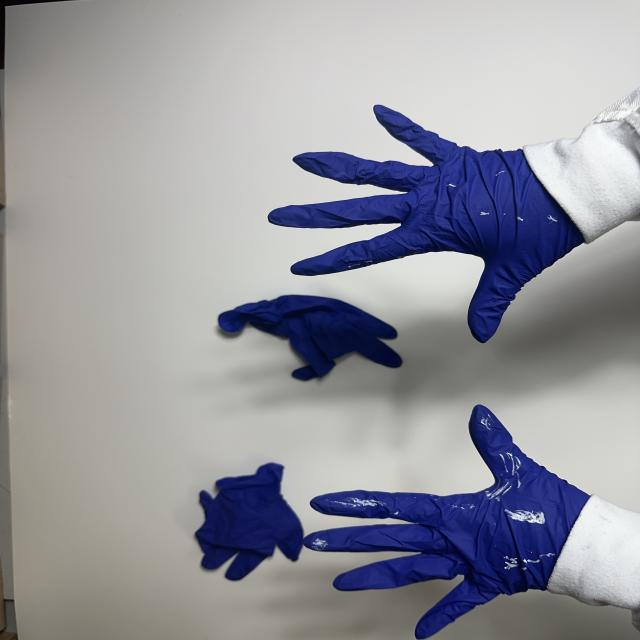gloves_contaminated: (268, 105, 584, 343), (304, 405, 589, 638)
